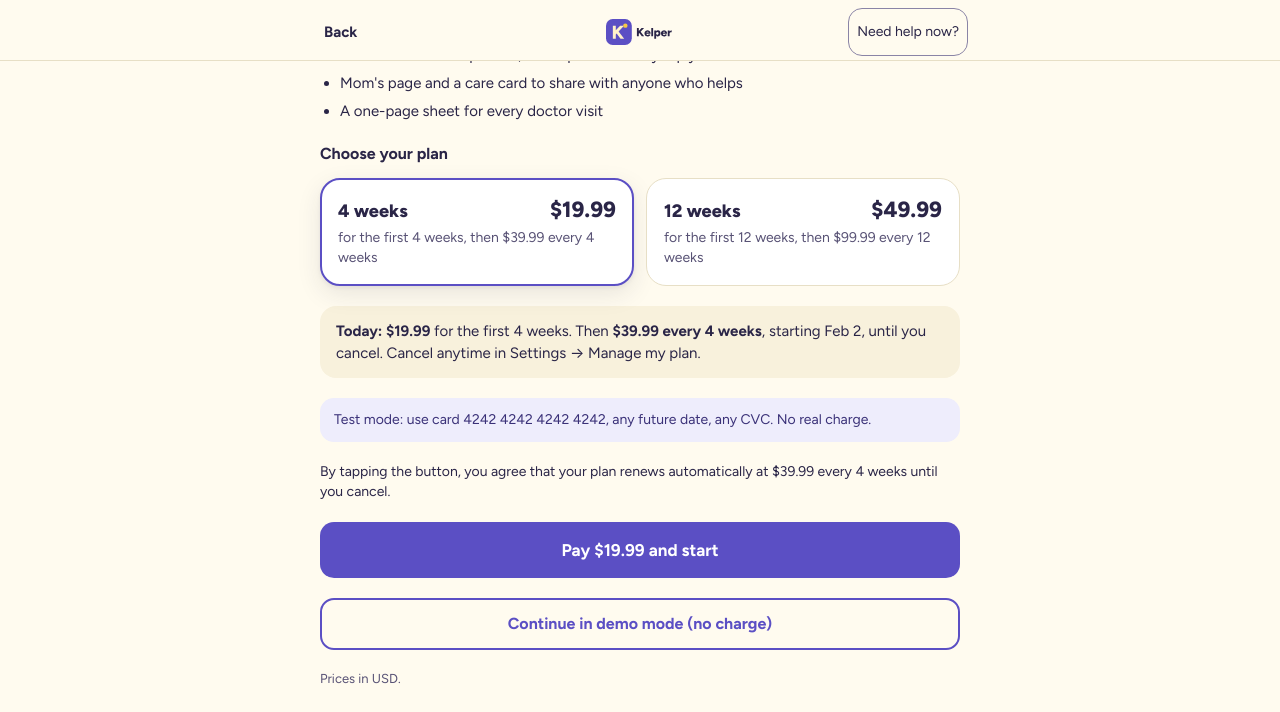
Test case: PaywallPage › keeps state and shows a message when the request fails
(page scrolled)
Click the button "Continue in demo mode (no charge)".
click(640, 624)  # box [320,598,960,650]
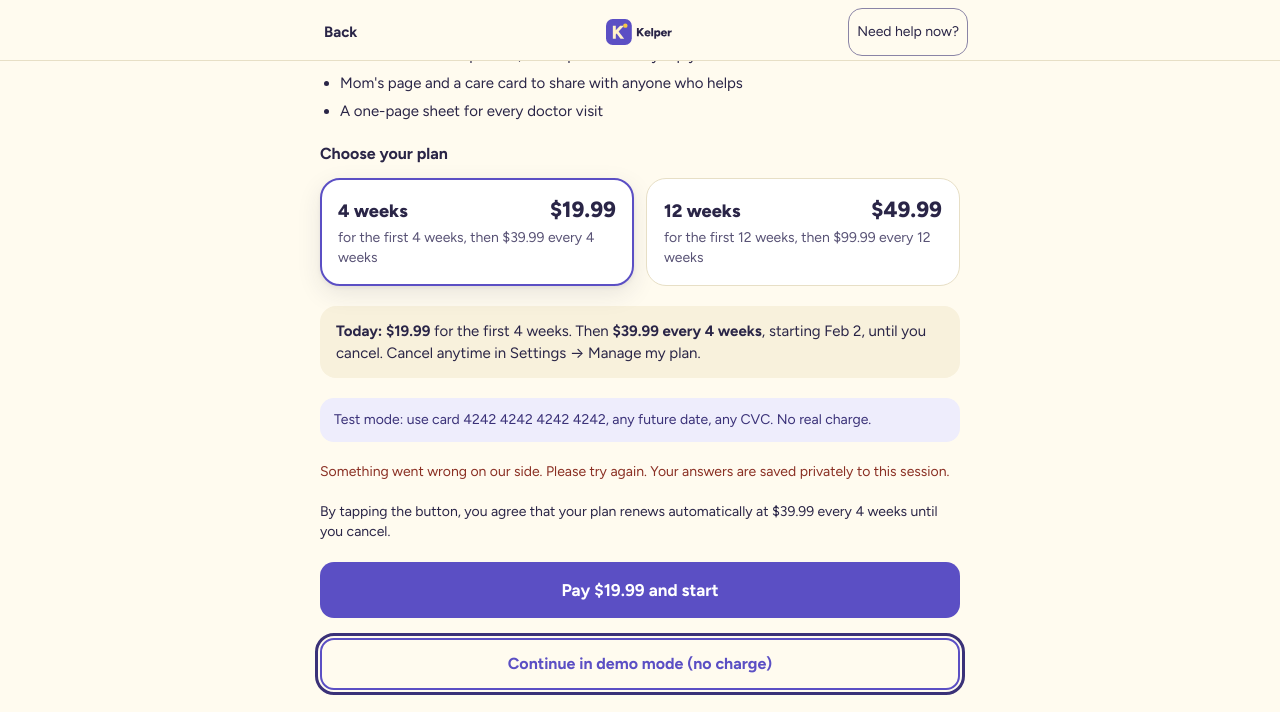
Expected: the message is shown, [320,462,960,482]
